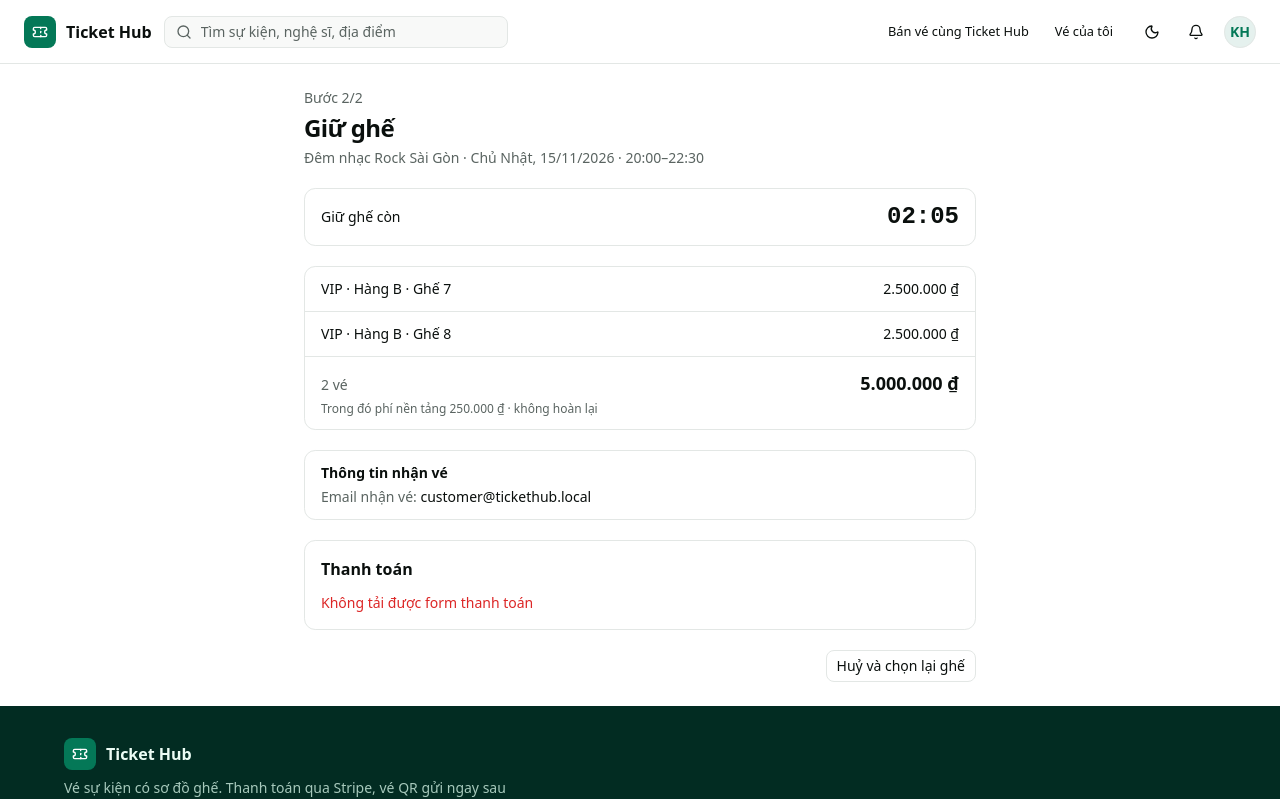
Test case: màn giữ ghế (BR-03, BR-12) › 409 BOOKING_NOT_CANCELLABLE: báo trong trang và tải lại trạng thái đơn
The width and height of the screenshot is (1280, 799).
Click the button "Huỷ và chọn lại ghế".
click(901, 666)  # box [826,650,976,682]
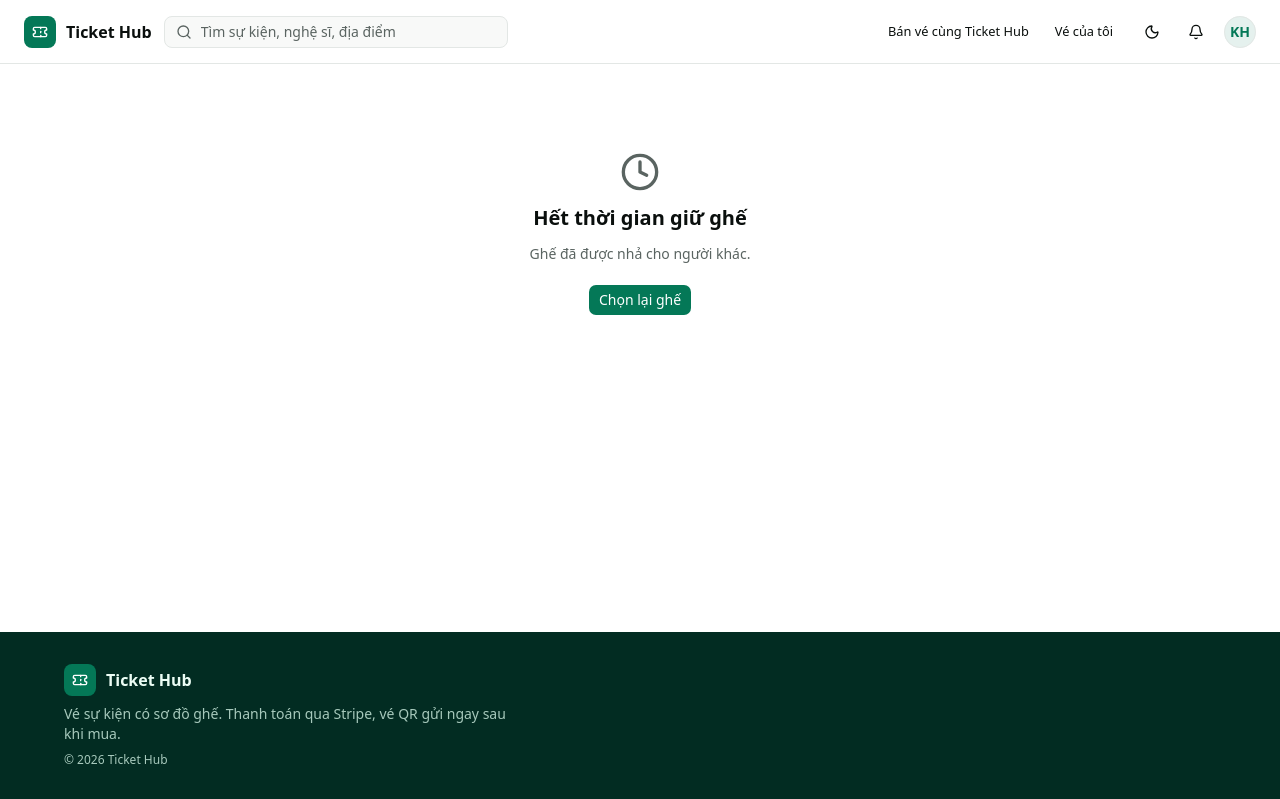
Check: the heading "Hết thời gian giữ ghế" is shown, box [533,204,747,232]
